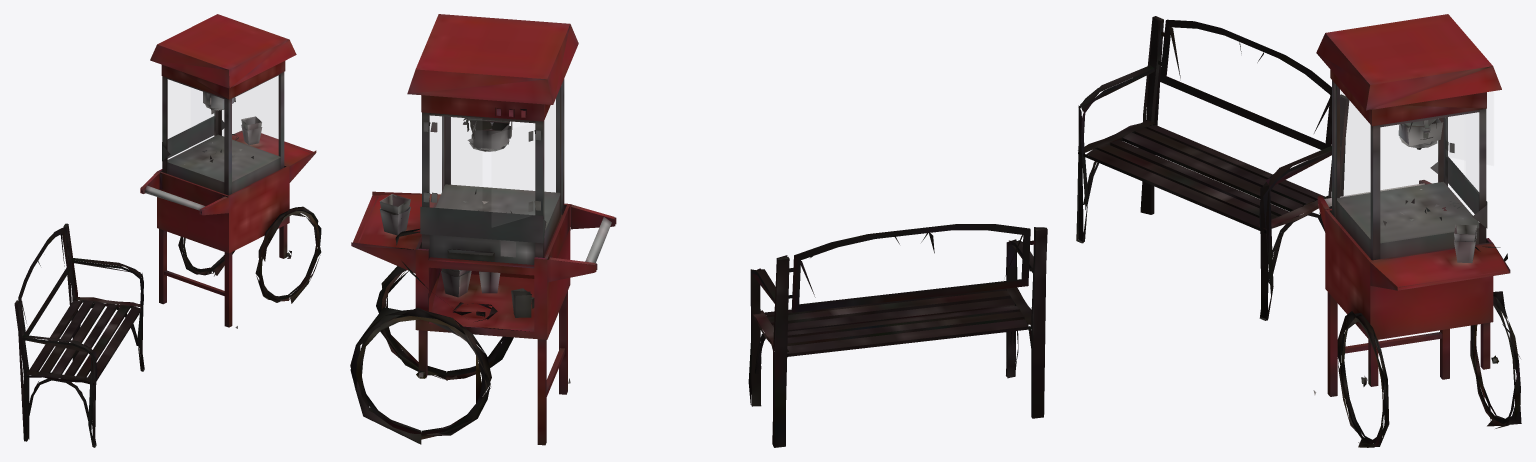
File: popcorn_cart_far.glb
The picture shows the model from 3 angles, left to right: view 1: azimuth 30°, elevation 25°; view 2: azimuth 150°, elevation 25°; view 3: azimuth 270°, elevation 25°; orthographic projection. The views are drawn at different scales.
Parts seen in each view (by area): view 1: baked, clear; view 2: baked, clear; view 3: baked, clear.
Boxes of the visible parts, x1,y1,x2,y2 form: baked: [14, 14, 321, 447]; clear: [191, 76, 278, 154]; baked: [350, 14, 1047, 447]; clear: [430, 100, 555, 206]; baked: [1076, 14, 1521, 447]; clear: [1340, 90, 1478, 197].
Bounding box in the file's own units: 2.45 × 1.57 × 1.74.
Materials: 2 (1 with a texture image).
